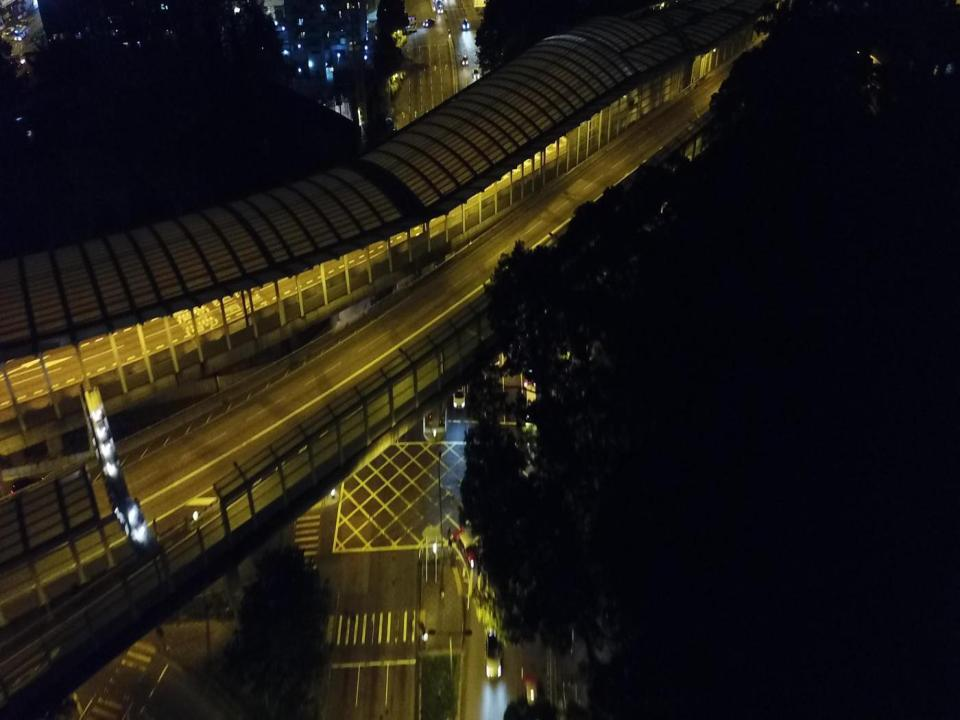bus: (388, 14, 418, 36)
car: (451, 524, 483, 568), (520, 662, 539, 714), (484, 626, 502, 679), (452, 376, 466, 410), (422, 18, 435, 28), (460, 53, 469, 67), (460, 18, 470, 30), (472, 66, 480, 78), (5, 26, 14, 36)
truck: (13, 25, 28, 41)
